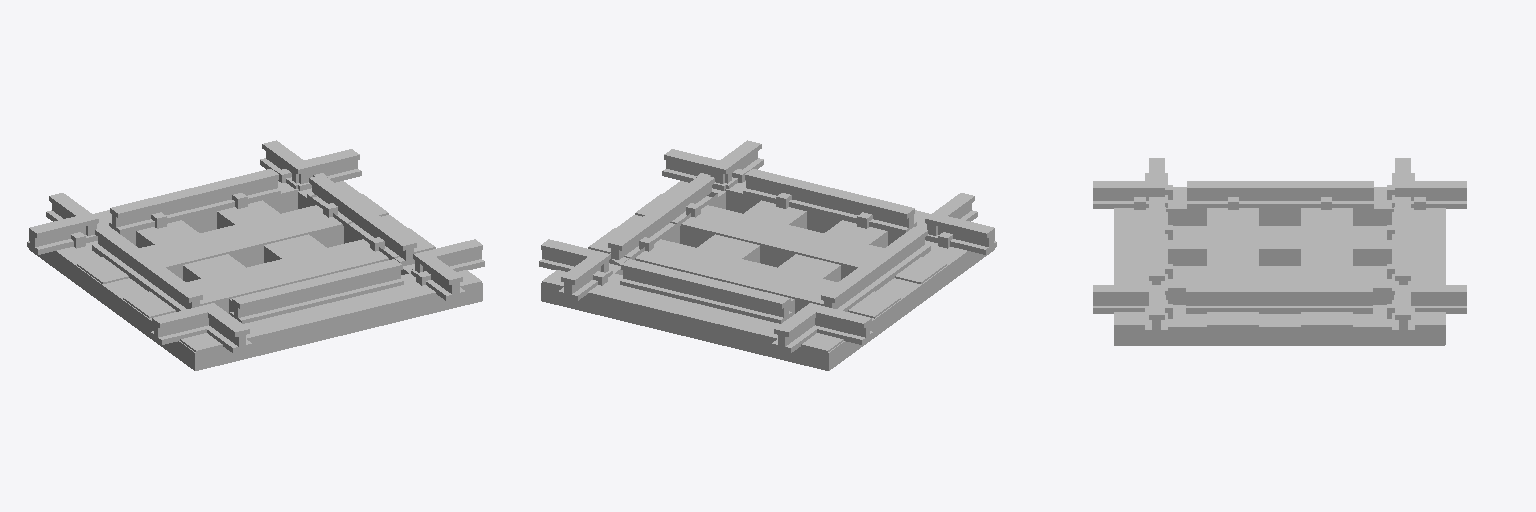
Rendered from track_x.obj.
3 views of the same model, side by side, from view 1: azimuth 30°, elevation 25°; view 2: azimuth 150°, elevation 25°; view 3: azimuth 270°, elevation 25° (orthographic).
Parts seen in each view (by area): view 1: track_x; view 2: track_x; view 3: track_x.
Part boxes in pixels (left/top/right/bottom): track_x: left=27, top=140, right=484, bottom=370; track_x: left=539, top=140, right=996, bottom=370; track_x: left=1093, top=158, right=1466, bottom=345.
Size of the model in its own units: 1 by 0.1158 by 1.